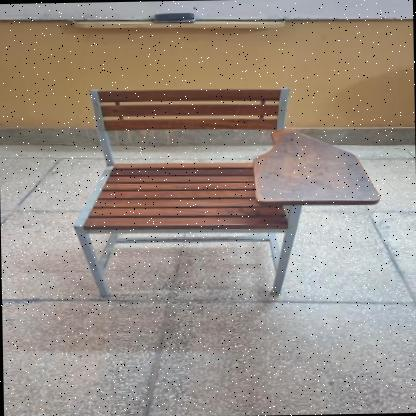chair: (65, 78, 382, 309)
